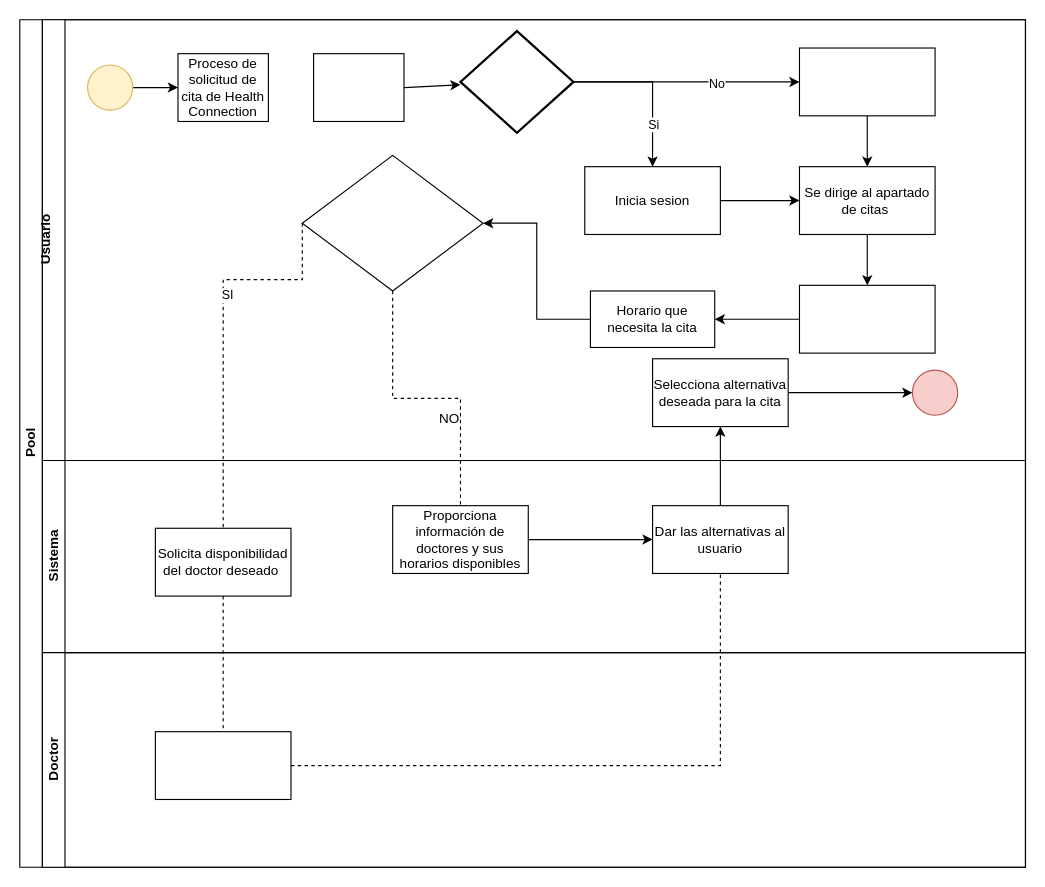
Image size: 1045x887. Some labels were removed from this diagram. The shapes that lost their labels are listed below. From the top down, each one's centre as x and y in pixels, then its label:
the point at 358,87: Ingresa a la pagina
the point at 516,81: Ya esta registrado?
the point at 866,81: Llena el formulario de registro
the point at 392,222: desea la cita con algun docotor en especifico
the point at 866,318: Selecciona el tipo de cita
the point at 222,765: Proporciona horario disponible para antender a pacientes
